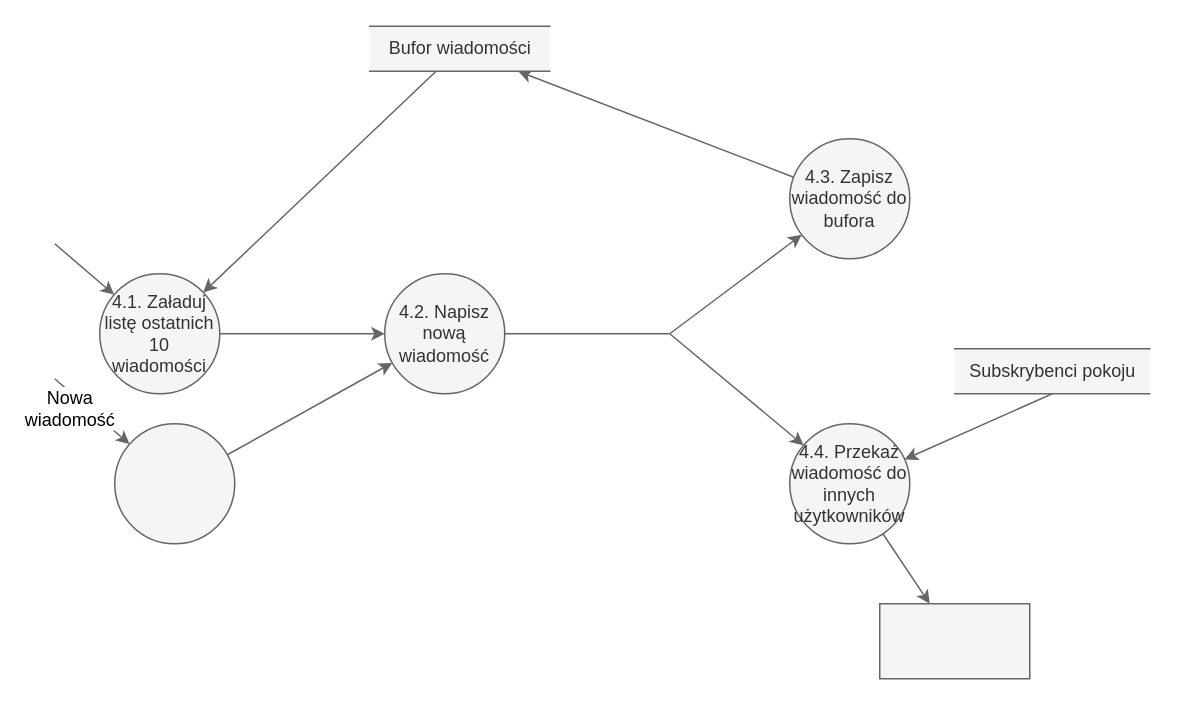
This 1178x705 diagram has some shape labels left out. The shapes that lost their labels are listed below. From the top down, each one's centre as x and y in pixels, then its label:
At [174,483]: "4.5. Odbierz wiadomość umieszczoną w pokoju".
At [954,640]: "Użytkownik".
